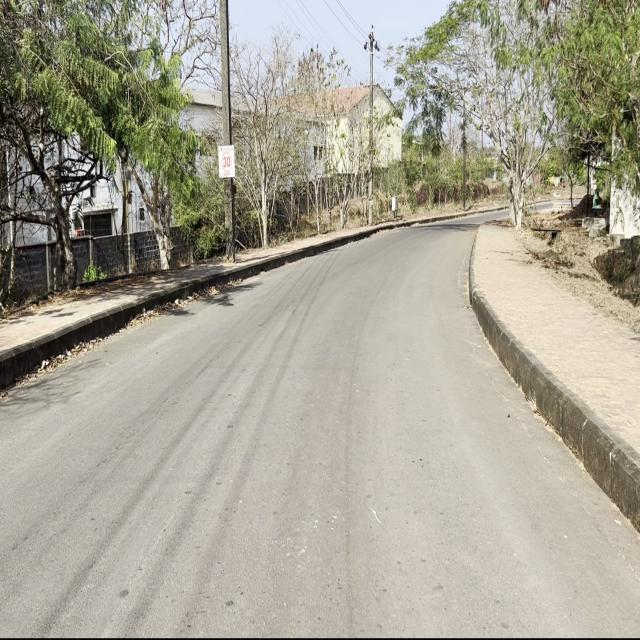Road: (2, 220, 637, 632)
